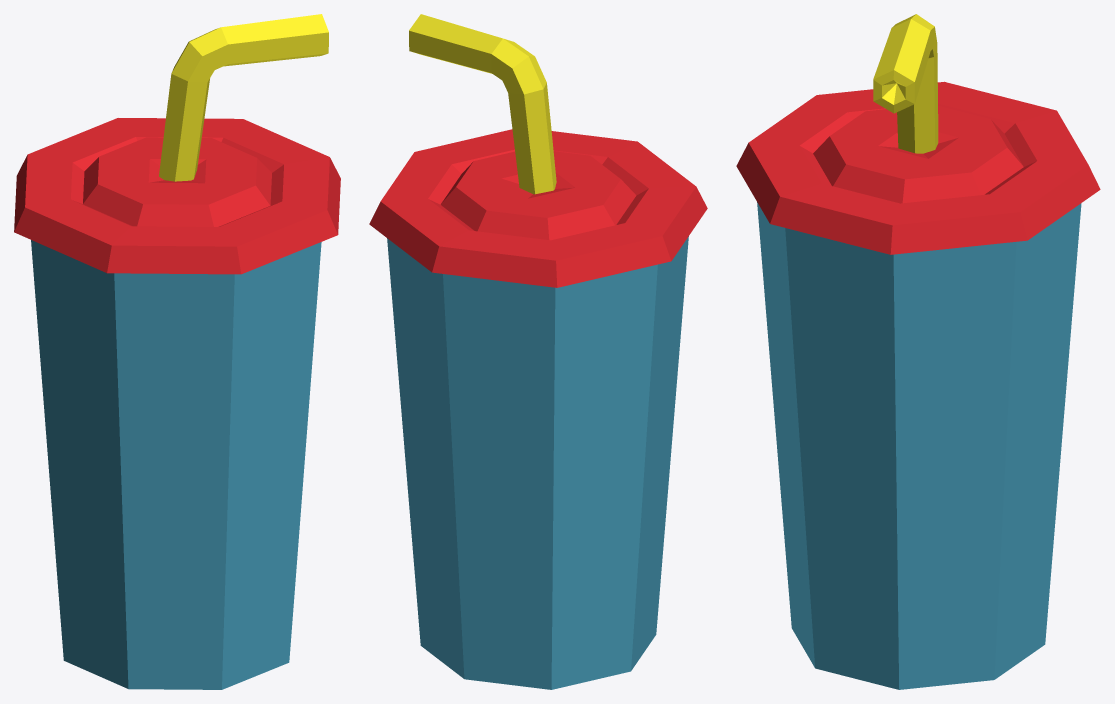
File: icecek.fbx
3 renders of one model, left to right at view 1: azimuth 30°, elevation 25°; view 2: azimuth 150°, elevation 25°; view 3: azimuth 270°, elevation 25°, orthographic. The views are drawn at different scales.
Parts seen in each view (by area): view 1: SM_Prop_Food_Tray_01_Food_05.006, SM_Prop_Food_Tray_01_Food_05, SM_Prop_Food_Tray_01_Food_05.007; view 2: SM_Prop_Food_Tray_01_Food_05.006, SM_Prop_Food_Tray_01_Food_05, SM_Prop_Food_Tray_01_Food_05.007; view 3: SM_Prop_Food_Tray_01_Food_05.006, SM_Prop_Food_Tray_01_Food_05, SM_Prop_Food_Tray_01_Food_05.007.
Part boxes in pixels (bbox=[...]): SM_Prop_Food_Tray_01_Food_05.006: bbox=[31, 240, 321, 689]; SM_Prop_Food_Tray_01_Food_05: bbox=[14, 118, 340, 274]; SM_Prop_Food_Tray_01_Food_05.007: bbox=[159, 14, 328, 181]; SM_Prop_Food_Tray_01_Food_05.006: bbox=[387, 236, 688, 689]; SM_Prop_Food_Tray_01_Food_05: bbox=[369, 129, 707, 287]; SM_Prop_Food_Tray_01_Food_05.007: bbox=[409, 14, 556, 194]; SM_Prop_Food_Tray_01_Food_05.006: bbox=[757, 202, 1081, 689]; SM_Prop_Food_Tray_01_Food_05: bbox=[736, 81, 1100, 254]; SM_Prop_Food_Tray_01_Food_05.007: bbox=[873, 14, 938, 153].
Bounding box in the file's own units: 260 × 502 × 260.
